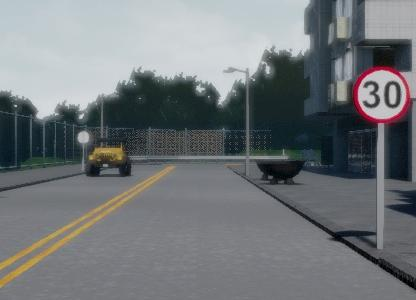Speed_30: (350, 64, 412, 125)
